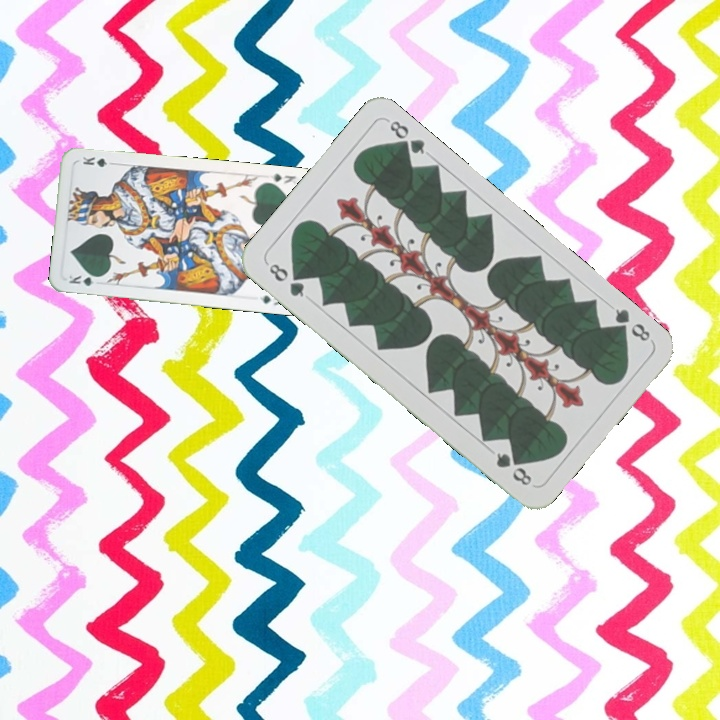G8: (263, 258, 307, 300), (608, 304, 653, 344)
GK: (65, 271, 104, 289), (262, 169, 298, 187)
